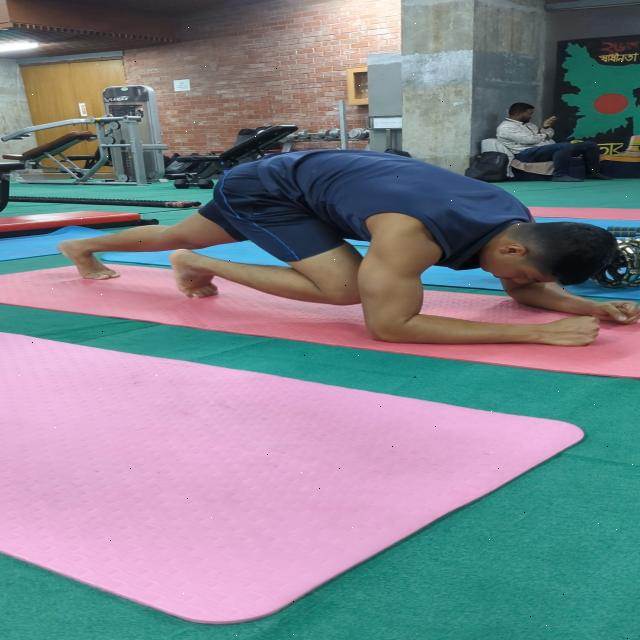Normal_MountainClimbers: (45, 137, 640, 356)
